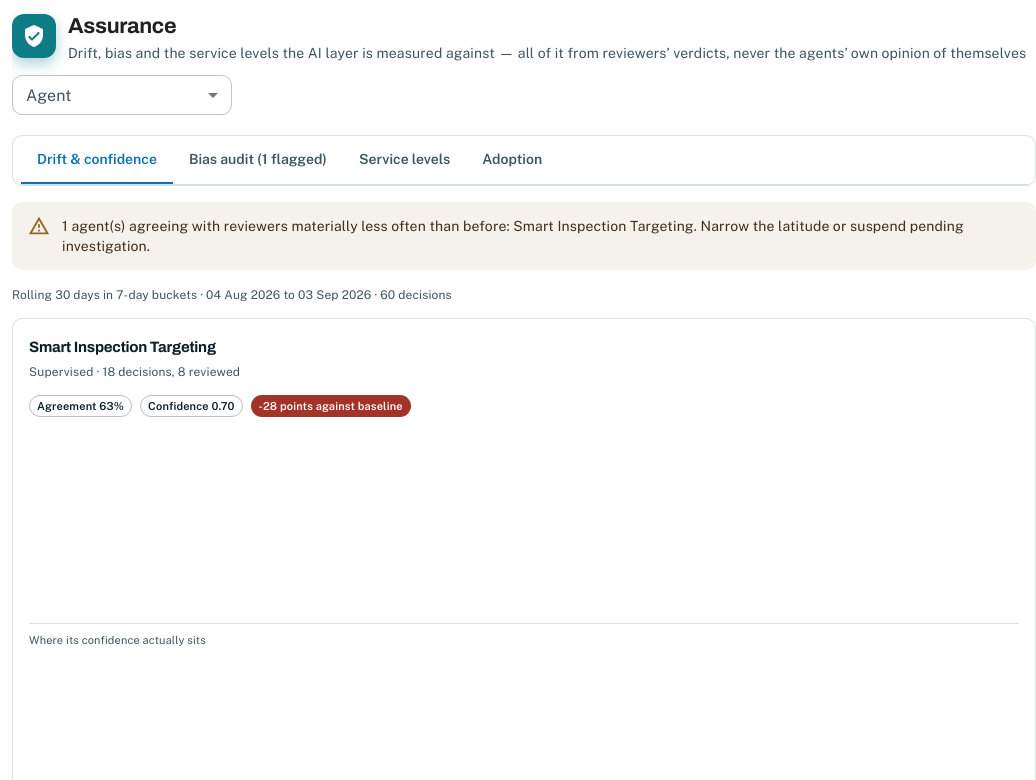
Test case: Assurance — drift, bias and the service levels › measures each service level against its target, including the high-risk false-positive ceiling
Click the tab "Service levels". click: (405, 160)
box: [343,136,466,184]
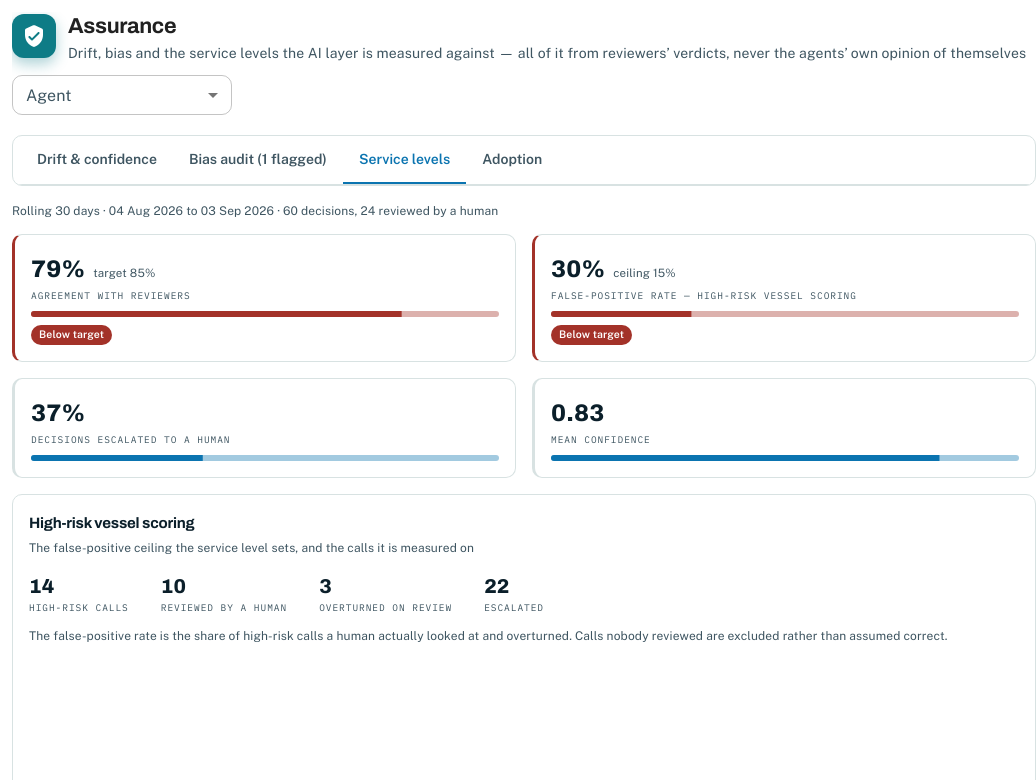
Now the text "False-positive rate — high-risk vessel scoring" is shown, box [551,289,857,302]
Now the text "ceiling 15%" is shown, box [613,265,676,282]
Now the text "target 85%" is shown, box [93,265,156,282]
